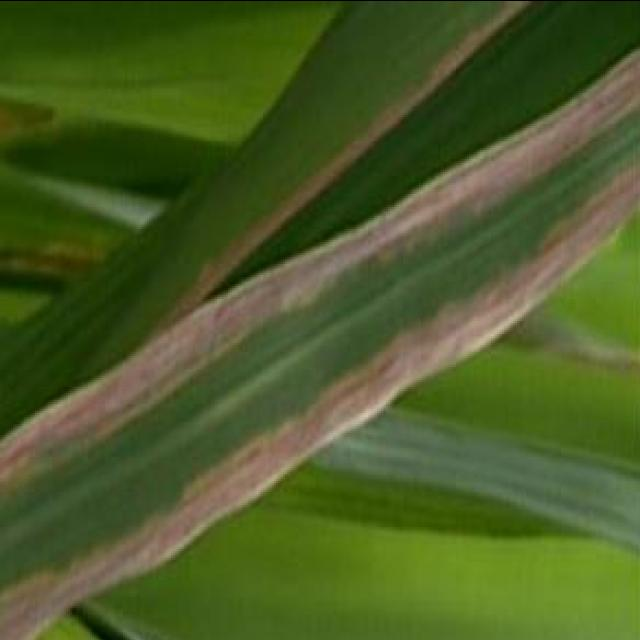Bacterial_Leaf_Blight: (0, 313, 406, 622)
